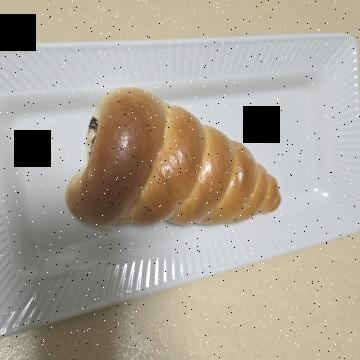cream horn: (74, 58, 256, 299)
